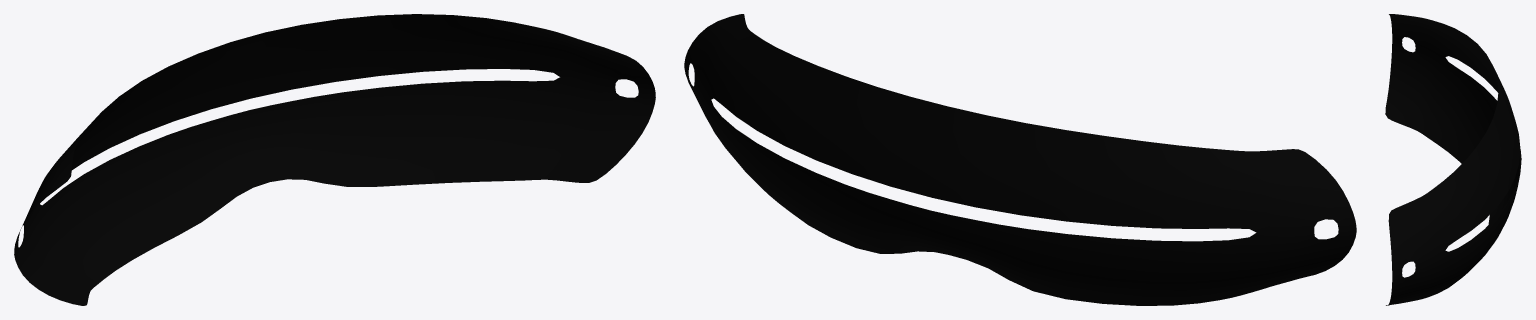
The model's file is mascara.glb.
3 renders of one model, left to right at view 1: azimuth 30°, elevation 25°; view 2: azimuth 150°, elevation 25°; view 3: azimuth 270°, elevation 25°, orthographic. The views are drawn at different scales.
Parts seen in each view (by area): view 1: Circle.001; view 2: Circle.001; view 3: Circle.001.
Boxes of the visible parts, x1,y1,x2,y2 form: Circle.001: (14, 14, 655, 305); Circle.001: (684, 14, 1356, 305); Circle.001: (1385, 14, 1521, 305).
Bounding box in the file's own units: 4.48 × 1.14 × 1.08.
1 material, 1 textured.
